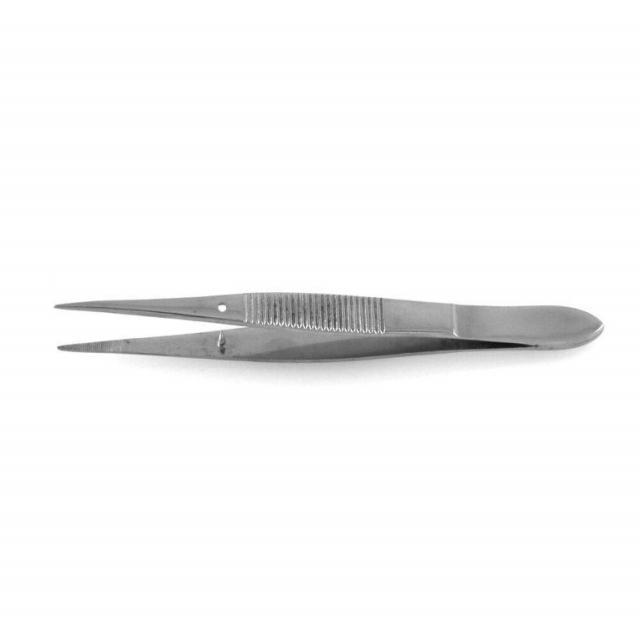Forceps: (53, 282, 606, 370)
